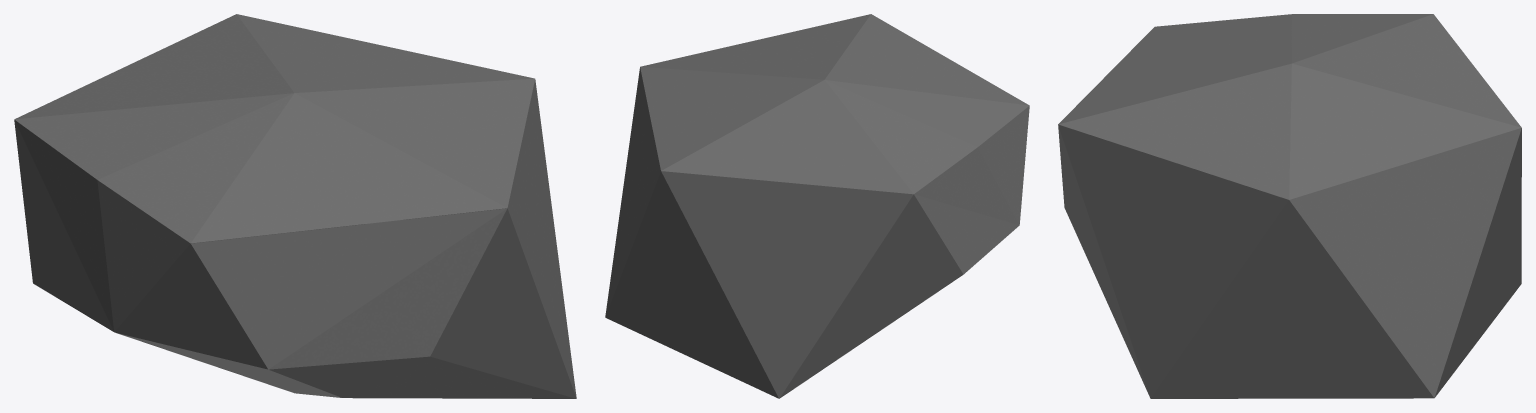
Rendered from etwasKleinererStein.obj.
3 views of the same model, side by side, from view 1: azimuth 30°, elevation 25°; view 2: azimuth 150°, elevation 25°; view 3: azimuth 270°, elevation 25° (orthographic). The views are drawn at different scales.
Visible parts, largest first — view 1: Rock1_Icosphere.000; view 2: Rock1_Icosphere.000; view 3: Rock1_Icosphere.000.
Part boxes in pixels (x1=…): Rock1_Icosphere.000: x1=14, y1=14, x2=576, y2=398; Rock1_Icosphere.000: x1=605, y1=14, x2=1029, y2=398; Rock1_Icosphere.000: x1=1058, y1=14, x2=1521, y2=398.
Size of the model in its own units: 3.03 by 1.89 by 3.09.
Materials: 1 (1 with a texture image).
